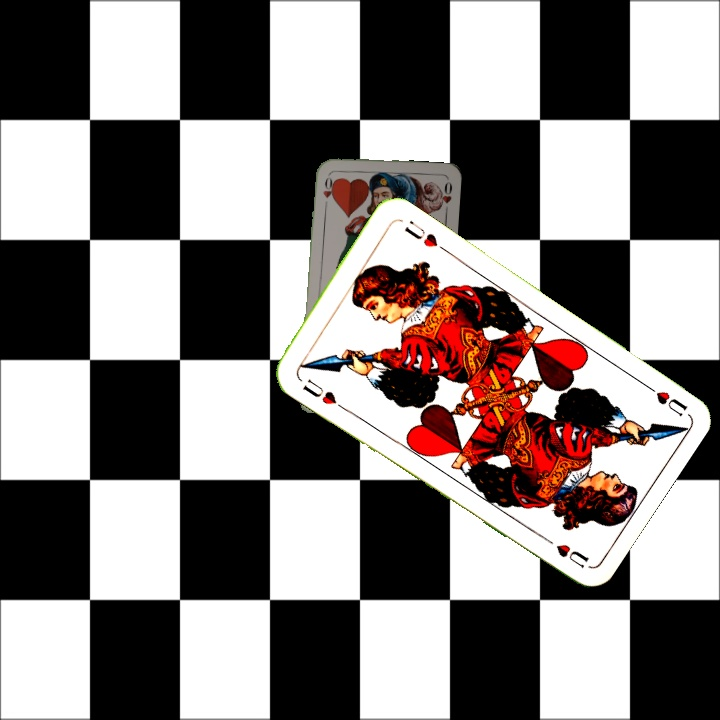HO: (319, 170, 335, 210)
HU: (637, 377, 690, 419), (298, 374, 339, 408)
